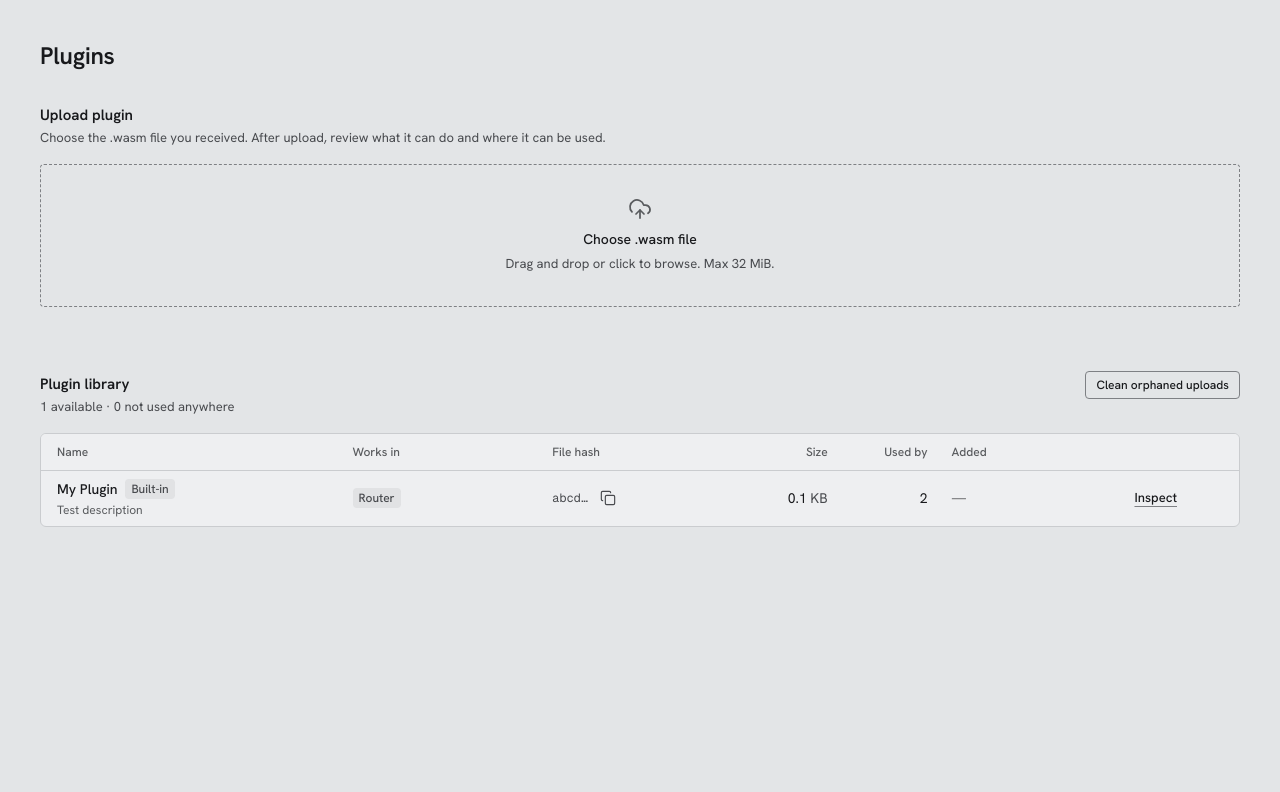
Test: shows catalog and opens detail view
The image size is (1280, 792).
Expected: the text "My Plugin" is shown, [57,479,117,500]
Expected: the text "Router" is shown, [352,488,401,508]
Click the button with aria-label "Inspect My Plugin" at (1156, 498), box [1124,484,1187,512]
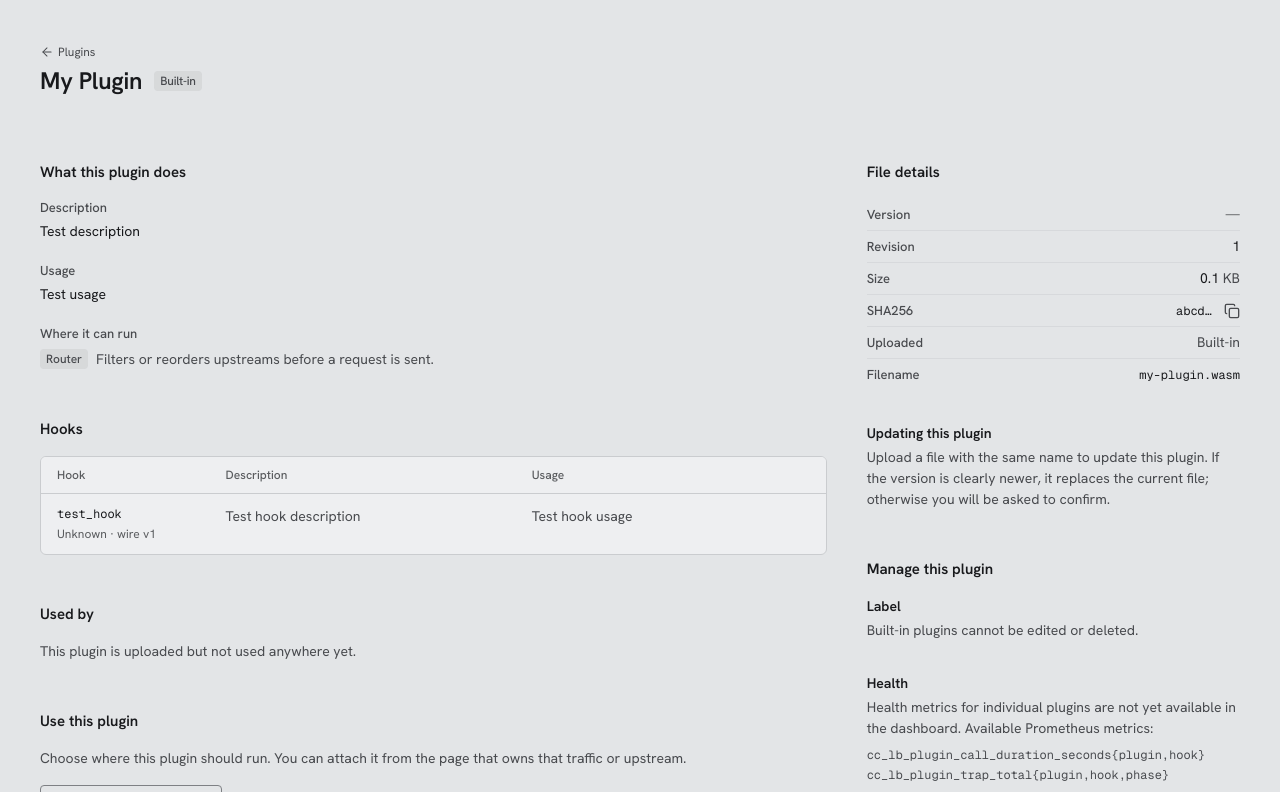
Expected: the button with aria-label "Back to plugins" is shown, [36,40,100,64]
Expected: the heading "My Plugin Built-in" is shown, [40,65,202,97]
Expected: the heading "What this plugin does" is shown, [40,162,186,182]
